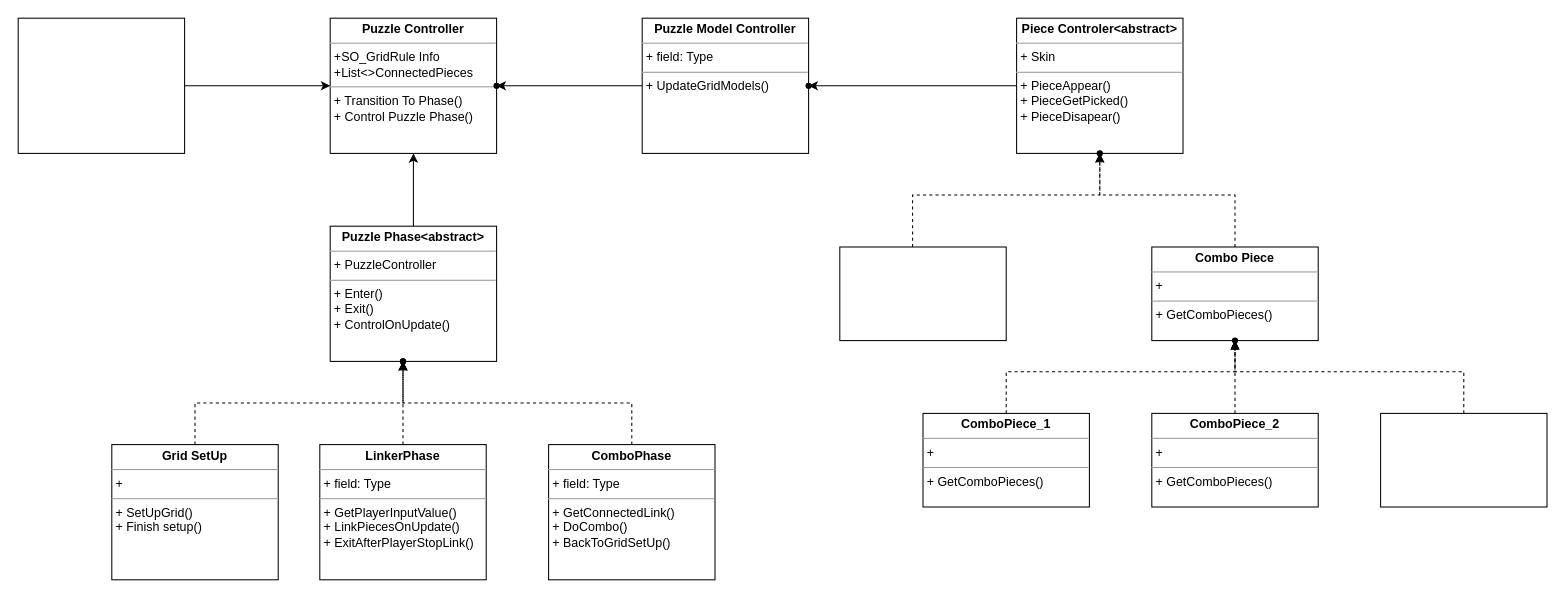
Some shapes in this 1565 by 598 pixel diagram are drawn without their labels. The shapes that lost their labels are listed below. From the top down, each one's centre as x and y in pixels, then its label:
At pixel 101 85: "Input Mnanager + field: Type + GetPlayer Input() + Return Input value()".
At pixel 922 293: "Normal Piece + +".
At pixel 1463 459: "ComboPiece_3 + + GetComboPieces()".
